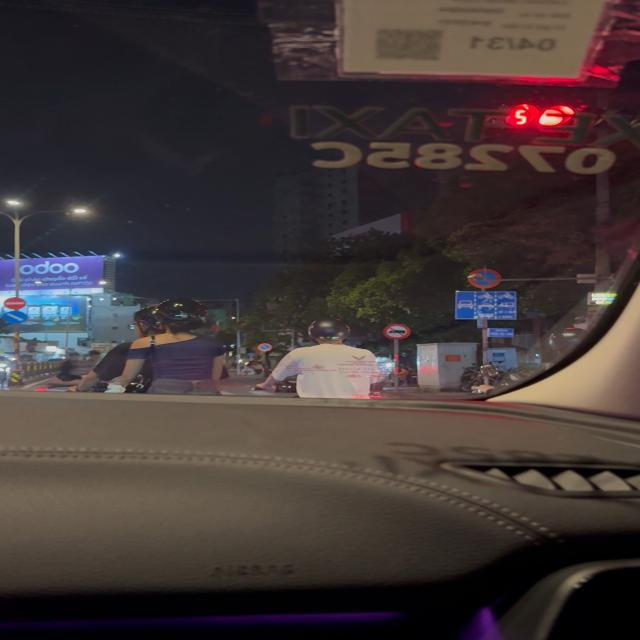Bien bao cam do xe: (466, 267, 504, 290), (257, 342, 276, 353)
Bien bao cam xe so-mi ro-mooc: (380, 322, 415, 341)
